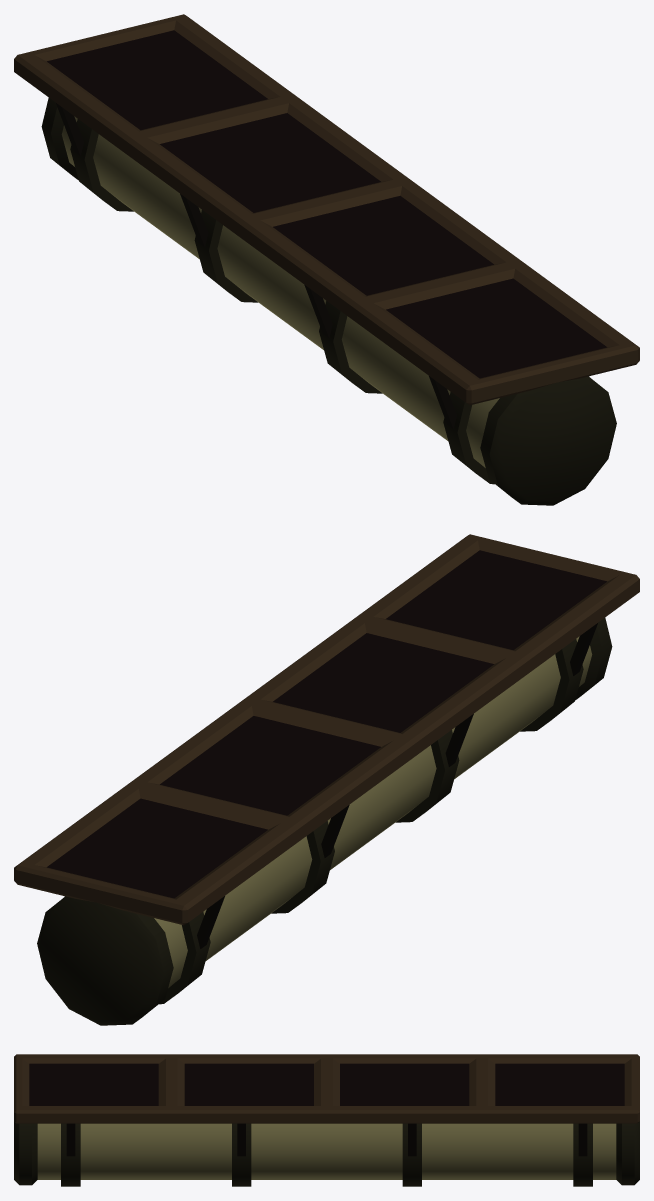
The model's file is OBJ_Rail_Tuyau.fbx.
3 renders of one model, top to bottom at view 1: azimuth 30°, elevation 25°; view 2: azimuth 150°, elevation 25°; view 3: azimuth 270°, elevation 25°, orthographic. The views are drawn at different scales.
Parts seen in each view (by area): view 1: Cylinder009; view 2: Cylinder009; view 3: Cylinder009.
Part boxes in pixels (left/top/right/bottom): Cylinder009: left=14, top=14, right=639, bottom=505; Cylinder009: left=14, top=534, right=639, bottom=1025; Cylinder009: left=14, top=1054, right=639, bottom=1186.
Bounding box in the file's own units: 242 × 192 × 1100.
